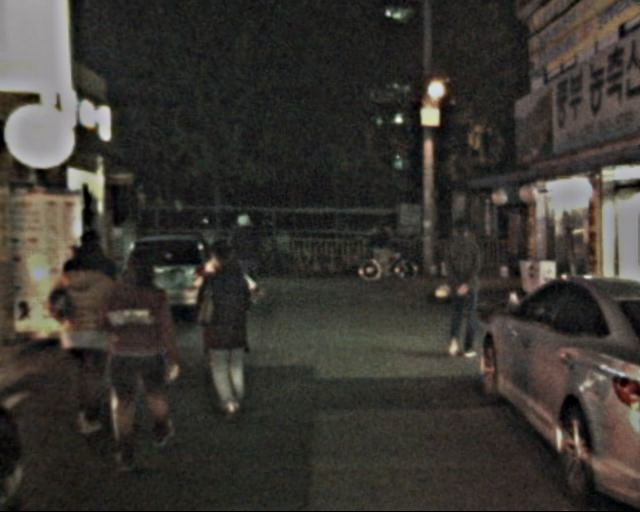person: (102, 237, 187, 472), (49, 246, 127, 437), (186, 236, 260, 426), (54, 224, 130, 378), (436, 213, 490, 364), (226, 205, 272, 316), (368, 220, 397, 281)
